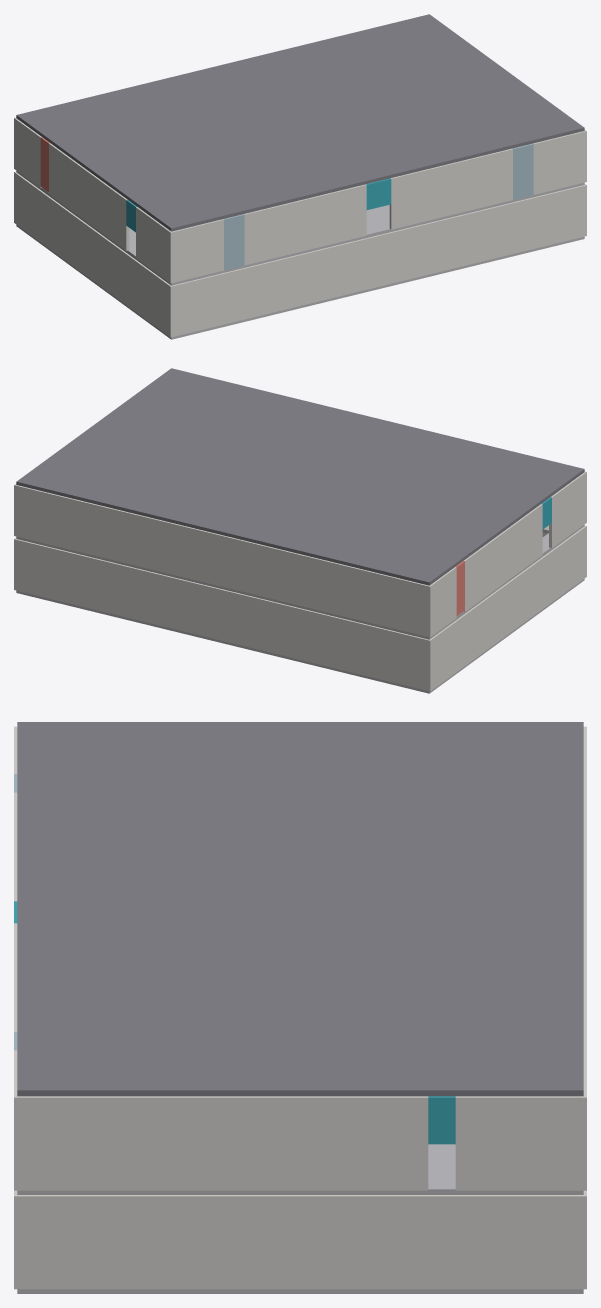
File: rail_station_a02.glb
3 renders of one model, top to bottom at view 1: azimuth 30°, elevation 25°; view 2: azimuth 150°, elevation 25°; view 3: azimuth 270°, elevation 25°, orthographic. The views are drawn at different scales.
Parts seen in each view (by area): view 1: slab_1_t0_0, slab_1_t0_5, slab_1_t0_2, slab_1_t0_3, slab_1_t0_1, slab_1_t0_4, slab_1_t0_6, slab_1_t0_7, slab_1_t5_0, slab_1_t1_0, slab_1_t3_0, slab_1_t4_0 (+102 smaller); view 2: slab_1_t5_0, slab_1_t5_5, slab_1_t5_2, slab_1_t5_3, slab_1_t5_1, slab_1_t5_4, slab_1_t5_6, slab_1_t5_7, slab_1_t0_0, slab_1_t4_0, slab_1_t1_0, slab_1_t2_0 (+100 smaller); view 3: slab_1_t0_7, slab_1_t2_7, slab_1_t5_7, slab_1_t1_7, slab_1_t3_7, slab_1_t4_7, slab_1_t0_0, slab_1_t0_1, slab_1_t0_2, slab_1_t0_3, slab_1_t0_4, slab_1_t0_5 (+64 smaller).
Part boxes in pixels (x1,y1,x2,y2): slab_1_t0_0: [145, 197, 222, 231]; slab_1_t0_5: [404, 134, 481, 168]; slab_1_t0_2: [249, 172, 326, 206]; slab_1_t0_3: [301, 159, 377, 193]; slab_1_t0_1: [198, 184, 274, 218]; slab_1_t0_4: [352, 146, 429, 181]; slab_1_t0_6: [456, 121, 532, 155]; slab_1_t0_7: [507, 109, 584, 143]; slab_1_t5_0: [16, 102, 93, 136]; slab_1_t1_0: [119, 178, 196, 212]; slab_1_t3_0: [68, 140, 144, 174]; slab_1_t4_0: [42, 121, 119, 155]; slab_1_t5_0: [378, 551, 455, 585]; slab_1_t5_5: [119, 488, 196, 522]; slab_1_t5_2: [274, 526, 351, 560]; slab_1_t5_3: [223, 513, 299, 547]; slab_1_t5_1: [326, 538, 402, 572]; slab_1_t5_4: [171, 500, 248, 535]; slab_1_t5_6: [68, 475, 144, 509]; slab_1_t5_7: [16, 463, 93, 497]; slab_1_t0_0: [507, 456, 584, 490]; slab_1_t4_0: [404, 532, 481, 566]; slab_1_t1_0: [481, 475, 558, 509]; slab_1_t2_0: [456, 494, 532, 528]; slab_1_t0_7: [17, 1044, 111, 1096]; slab_1_t2_7: [206, 1044, 300, 1096]; slab_1_t5_7: [489, 1044, 583, 1096]; slab_1_t1_7: [111, 1044, 205, 1096]; slab_1_t3_7: [300, 1044, 394, 1096]; slab_1_t4_7: [395, 1044, 489, 1096]; slab_1_t0_0: [17, 722, 111, 768]; slab_1_t0_1: [17, 768, 111, 814]; slab_1_t0_2: [17, 814, 111, 860]; slab_1_t0_3: [17, 860, 111, 906]; slab_1_t0_4: [17, 906, 111, 952]; slab_1_t0_5: [17, 952, 111, 998].
Size of what is drawn, in the model's own units: 40.3 by 10.3 by 26.3.
